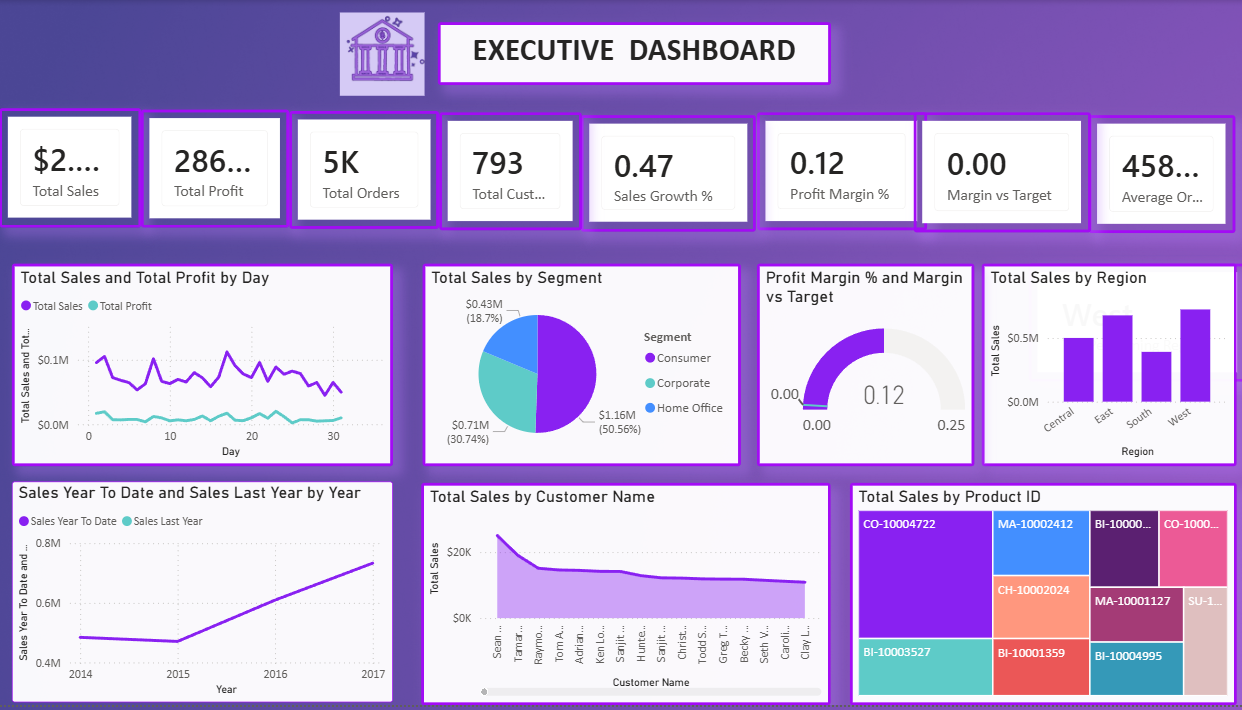

The dashboard page shown, as its layout file describes it:
{"tool":"powerbi","page":{"name":"Executive Dashboard","canvas":[1280,720],"ordinal":0},"visuals":[{"type":"cardVisual","fields":{"Data":["Category_details.Total Sales"]},"box":[1.4,110.5,144.5,121.9],"z":0},{"type":"cardVisual","fields":{"Data":["Category_details.Profit Margin %"]},"box":[774.6,115.3,173.9,120.5],"z":1000},{"type":"cardVisual","fields":{"Data":["Category_details.Average Order Value"]},"box":[1113.7,117,149.8,120.5],"z":2000},{"type":"cardVisual","fields":{"Data":["Category_details.Total Profit"]},"box":[145.9,111.9,151.6,120.4],"z":3000},{"type":"cardVisual","fields":{"Data":["Category_details.Total Orders"]},"box":[297.5,113.4,153,120.4],"z":4000},{"type":"cardVisual","fields":{"Data":["Category_details.Top Performing Region"]},"box":[1053.4,268.5,222,120.5],"z":5000},{"type":"lineChart","fields":{"Category":["Data.Order Date.Variation.Date Hierarchy.Year","Data.Order Date.Variation.Date Hierarchy.Quarter","Data.Order Date.Variation.Date Hierarchy.Month","Data.Order Date.Variation.Date Hierarchy.Day"],"Y":["Category_details.Total Sales","Category_details.Total Profit"]},"box":[13.8,268.5,389,206.6],"z":6000},{"type":"lineStackedColumnComboChart","fields":{"Category":["Data.Region","Data.State","Data.City"],"Y":["Category_details.Total Sales"]},"box":[1005.2,268.5,259.9,206.6],"z":7000},{"type":"pieChart","fields":{"Category":["Data.Segment"],"Y":["Category_details.Total Sales"]},"box":[433.8,268.5,325.3,206.6],"z":8000},{"type":"treemap","fields":{"Values":["Category_details.Total Sales"],"Group":["Data.Product ID"]},"box":[870,493.3,395,226.7],"z":9000},{"type":"textbox","box":[448.7,22.9,401.2,63.9],"z":10000},{"type":"stackedAreaChart","fields":{"Y":["Category_details.Total Sales"],"Category":["Data.Customer Name"]},"box":[432.2,493.1,418,226.7],"z":11000},{"type":"cardVisual","fields":{"Data":["Category_details.Sales Growth %"]},"box":[595.6,117,179,118.8],"z":12000},{"type":"cardVisual","fields":{"Data":["Category_details.Margin vs Target"]},"box":[934.7,115.3,180.7,122.2],"z":13000},{"type":"cardVisual","fields":{"Data":["Category_details.Total Customers"]},"box":[450.6,114.8,145.9,120.4],"z":14000},{"type":"lineChart","fields":{"Category":["Data.Order Date.Variation.Date Hierarchy.Year","Data.Order Date.Variation.Date Hierarchy.Quarter","Data.Order Date.Variation.Date Hierarchy.Month","Data.Order Date.Variation.Date Hierarchy.Day"],"Y":["Category_details.Sales Year To Date","Category_details.Sales Last Year"]},"box":[13.8,492.3,389,225.5],"z":15000},{"type":"gauge","fields":{"Y":["Category_details.Profit Margin %"],"TargetValue":["Category_details.Margin vs Target"]},"box":[774.6,268.5,222,206.6],"z":16000},{"type":"image","box":[317.4,12.8,150.2,85],"z":17000}]}

Visuals, with their boxes in screenshot pixels (x1, y1, x2, y2), scaled from the page's 1280x720 canvas onto the 1242x710 screenshot:
cardVisual - Category_details.Total Sales: bbox=(1, 109, 142, 229)
cardVisual - Category_details.Profit Margin %: bbox=(752, 114, 920, 233)
cardVisual - Category_details.Average Order Value: bbox=(1081, 115, 1226, 234)
cardVisual - Category_details.Total Profit: bbox=(142, 110, 289, 229)
cardVisual - Category_details.Total Orders: bbox=(289, 112, 437, 231)
cardVisual - Category_details.Top Performing Region: bbox=(1022, 265, 1238, 384)
lineChart - Data.Order Date.Variation.Date Hierarchy.Year x Data.Order Date.Variation.Date Hierarchy.Quarter: bbox=(13, 265, 391, 469)
lineStackedColumnComboChart - Data.Region x Data.State: bbox=(975, 265, 1228, 469)
pieChart - Data.Segment x Category_details.Total Sales: bbox=(421, 265, 737, 469)
treemap - Category_details.Total Sales x Data.Product ID: bbox=(844, 486, 1227, 709)
textbox: bbox=(435, 23, 825, 86)
stackedAreaChart - Category_details.Total Sales x Data.Customer Name: bbox=(419, 486, 825, 709)
cardVisual - Category_details.Sales Growth %: bbox=(578, 115, 752, 233)
cardVisual - Category_details.Margin vs Target: bbox=(907, 114, 1082, 234)
cardVisual - Category_details.Total Customers: bbox=(437, 113, 579, 232)
lineChart - Data.Order Date.Variation.Date Hierarchy.Year x Data.Order Date.Variation.Date Hierarchy.Quarter: bbox=(13, 485, 391, 708)
gauge - Category_details.Profit Margin % x Category_details.Margin vs Target: bbox=(752, 265, 967, 469)
image: bbox=(308, 13, 454, 96)
